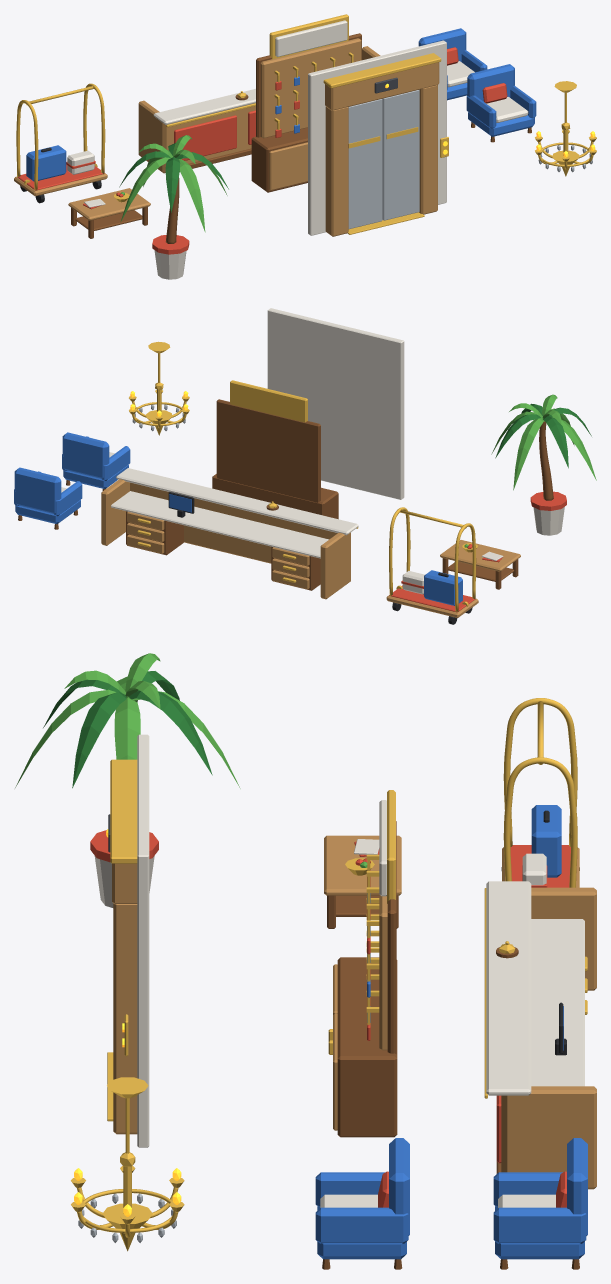
The model's file is hotel-lobby-set.glb.
3 views of the same model, one above another, from view 1: azimuth 30°, elevation 25°; view 2: azimuth 150°, elevation 25°; view 3: azimuth 270°, elevation 25° (orthographic). The views are drawn at different scales.
Visible parts, largest first — view 1: Elevator_Wall, Door_Right, KeyRack_Board, Door_Left, Elevator_Jamb_L, Elevator_Header, Elevator_Jamb_R, Desk_Inlay_1, KeyRack_Cabinet, Cabinet_Door_L, Sign, Desk_Top (+30 smaller); view 2: Elevator_Wall, KeyRack_BoardFrame, Desk_WorkTop, Desk_Top, Desk_FrontPanel, Sign_Frame, KeyRack_Cabinet, Armchair_A_Back, Armchair_B_Back, Desk_Side_L, Desk_Side_R, CoffeeTable_Top (+19 smaller); view 3: Desk_Top, KeyRack_Cabinet, Desk_WorkTop, Desk_Side_R, Elevator_Wall, Elevator_Jamb_R, Armchair_A_Arm_R, Armchair_B_Arm_R, Elevator_HeaderTrim, Desk_Side_L, CoffeeTable_Top, Chandelier (+22 smaller).
Boxes of the visible parts, left/top/right/bottom form: Elevator_Wall: left=308, top=40, right=446, bottom=235; Door_Right: left=382, top=90, right=419, bottom=220; KeyRack_Board: left=260, top=38, right=361, bottom=138; Door_Left: left=348, top=99, right=382, bottom=229; Elevator_Jamb_L: left=325, top=106, right=348, bottom=236; Elevator_Header: left=325, top=62, right=439, bottom=110; Elevator_Jamb_R: left=419, top=85, right=437, bottom=214; Desk_Inlay_1: left=174, top=115, right=236, bottom=160; KeyRack_Cabinet: left=251, top=127, right=307, bottom=192; Cabinet_Door_L: left=269, top=142, right=307, bottom=190; Sign: left=275, top=20, right=347, bottom=57; Desk_Top: left=153, top=88, right=255, bottom=124; Elevator_Wall: left=267, top=308, right=404, bottom=499; KeyRack_BoardFrame: left=216, top=399, right=320, bottom=502; Desk_WorkTop: left=111, top=491, right=328, bottom=558; Desk_Top: left=116, top=468, right=358, bottom=535; Desk_FrontPanel: left=130, top=482, right=337, bottom=563; Sign_Frame: left=230, top=380, right=307, bottom=422; KeyRack_Cabinet: left=212, top=474, right=338, bottom=519; Armchair_A_Back: left=14, top=467, right=61, bottom=513; Armchair_B_Back: left=62, top=432, right=109, bottom=478; Desk_Side_L: left=320, top=532, right=350, bottom=599; Desk_Side_R: left=101, top=479, right=129, bottom=545; CoffeeTable_Top: left=440, top=540, right=520, bottom=571; Desk_Top: left=486, top=881, right=531, bottom=1095; KeyRack_Cabinet: left=337, top=957, right=397, bottom=1137; Desk_WorkTop: left=531, top=919, right=584, bottom=1086; Desk_Side_R: left=504, top=1086, right=596, bottom=1189; Elevator_Wall: left=137, top=734, right=149, bottom=1147; Elevator_Jamb_R: left=113, top=903, right=137, bottom=1134; Armchair_A_Arm_R: left=493, top=1207, right=586, bottom=1243; Armchair_B_Arm_R: left=315, top=1207, right=408, bottom=1243; Elevator_HeaderTrim: left=110, top=759, right=137, bottom=863; Desk_Side_L: left=531, top=887, right=596, bottom=990; CoffeeTable_Top: left=324, top=835, right=401, bottom=895; Chandelier: left=71, top=1166, right=184, bottom=1242.
Size of the model in its own units: 33.5 by 10.82 by 19.49.
